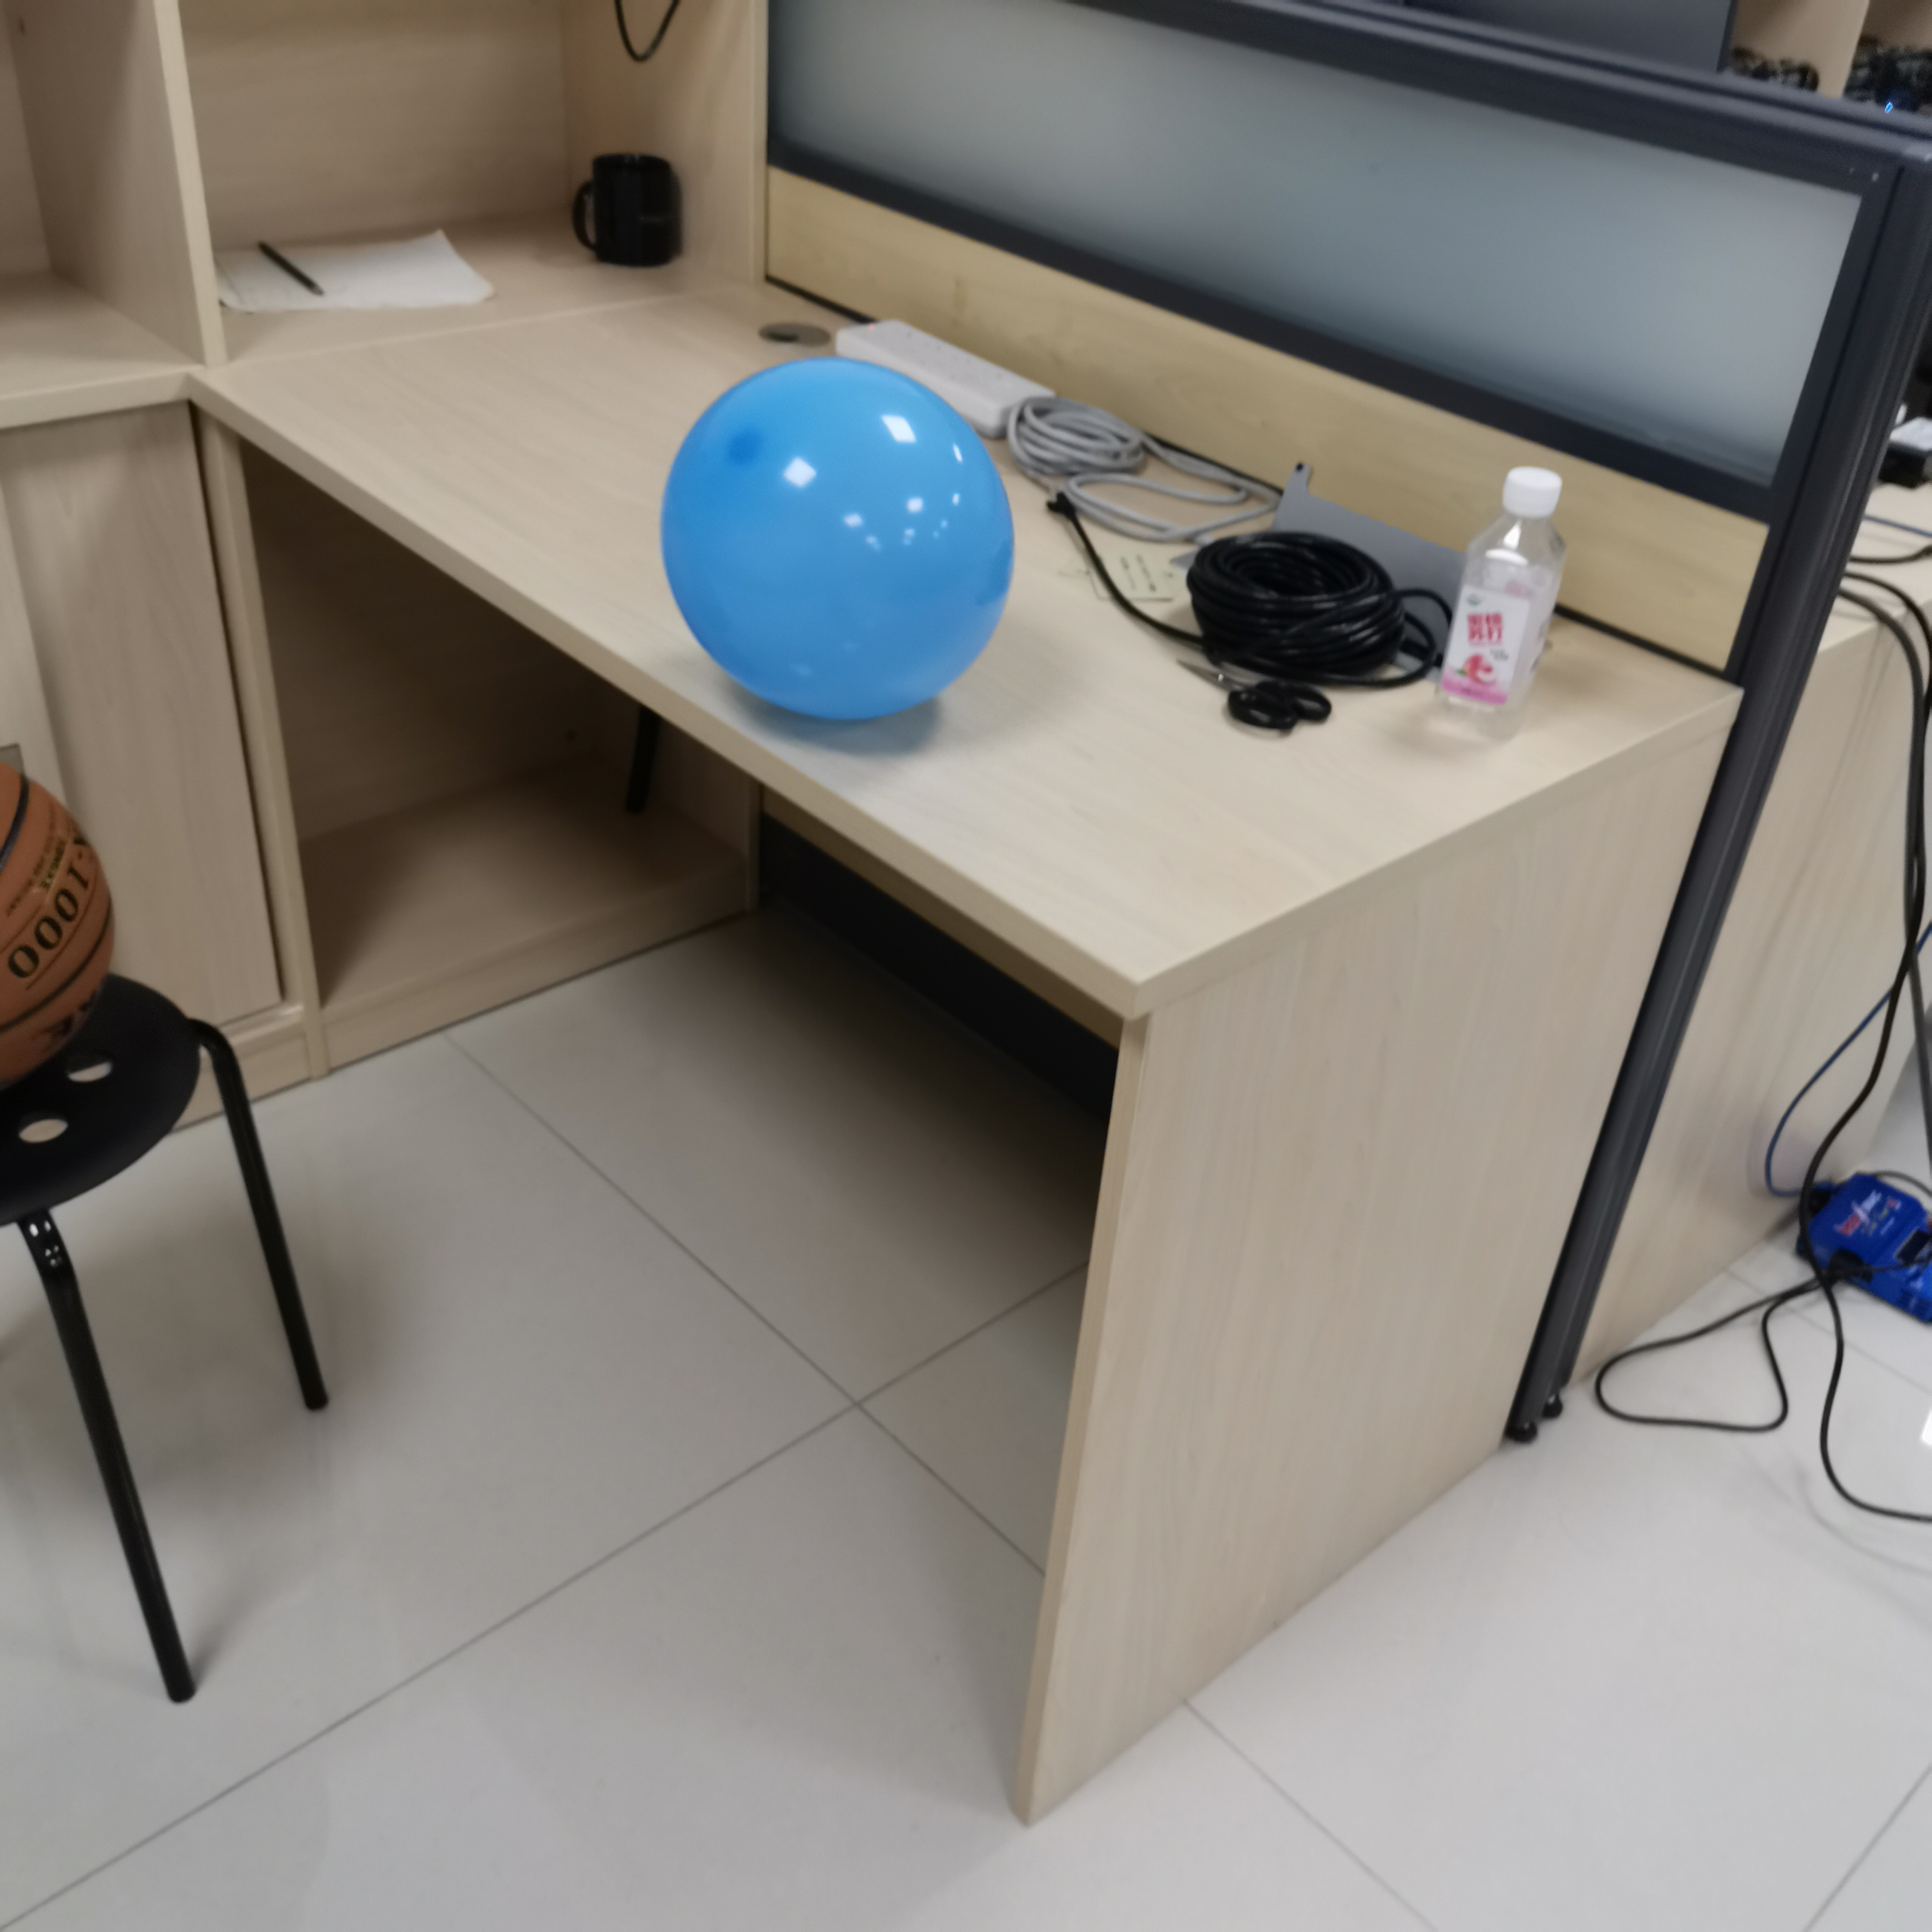balloon: (658, 356, 1016, 725)
